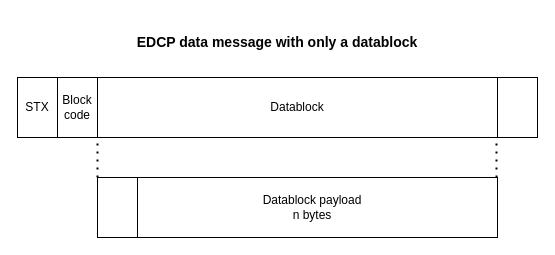
This 555x255 diagram has some shape labels left out. Each missing label, with the centre of its shape:
"ETX" goes at pixel 517 107.
"Type 1 byte" goes at pixel 117 207.
